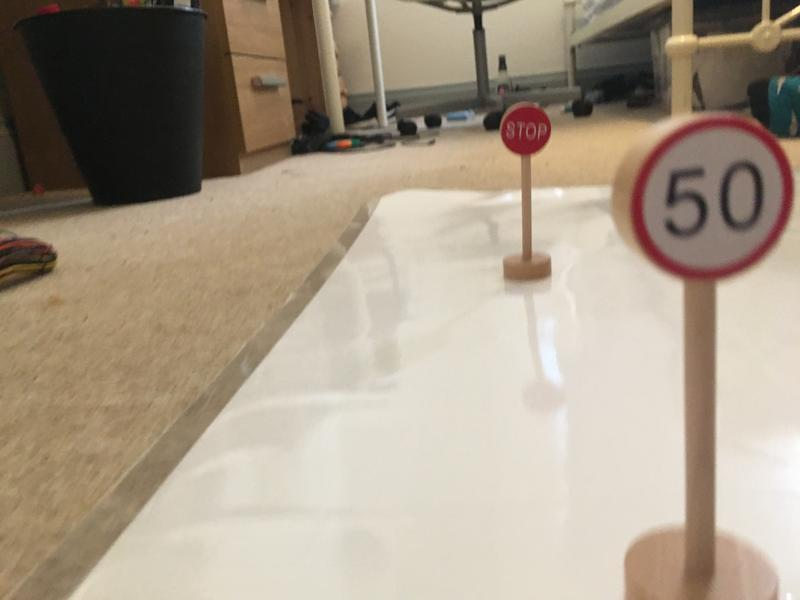Traffic_Sign_50: (632, 118, 795, 276)
Traffic_Sign_Stop: (500, 103, 553, 155)
